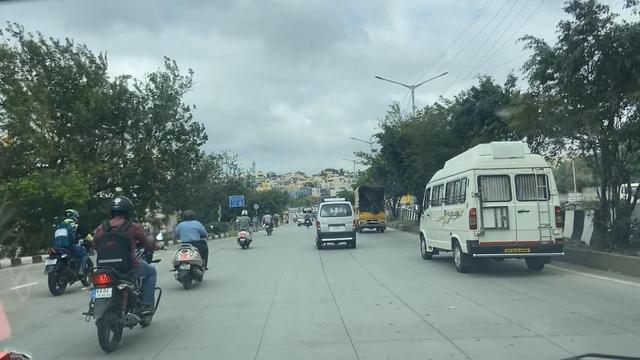HMV: (413, 155, 568, 274), (347, 177, 394, 233)
LMV: (93, 193, 160, 333), (42, 206, 88, 291), (162, 209, 214, 280), (303, 196, 360, 249), (231, 204, 254, 247)
